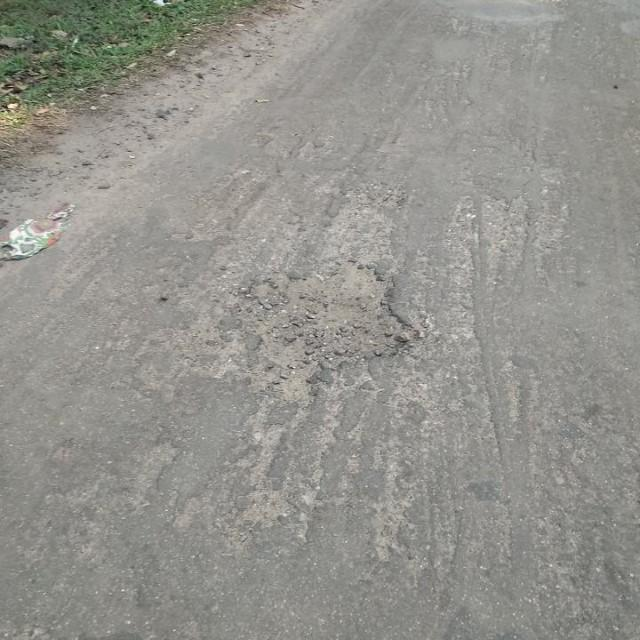Pothole: (231, 254, 421, 408)
